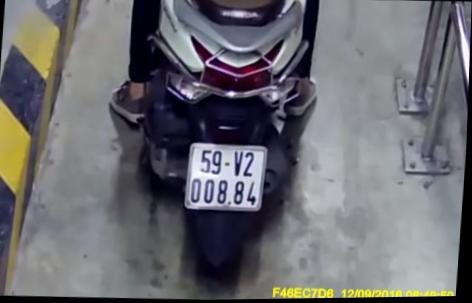LP: (185, 140, 269, 214)
